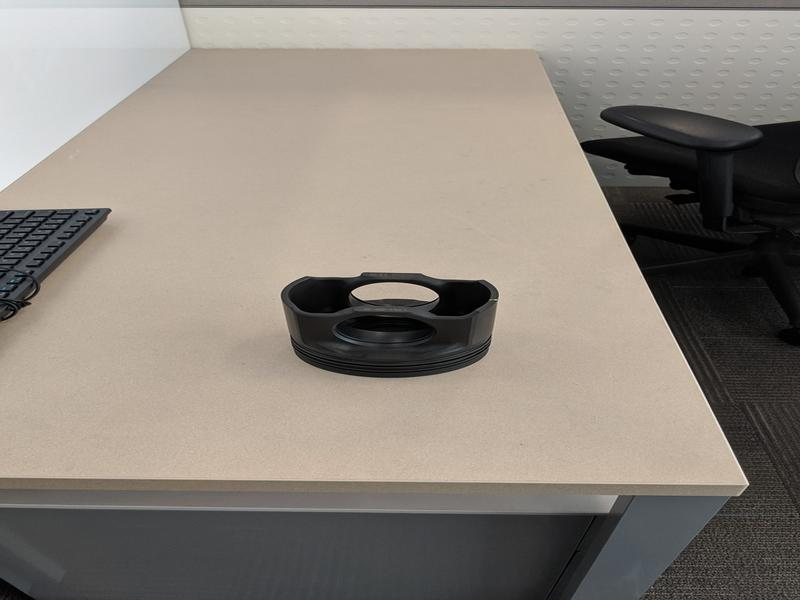piston: (278, 267, 505, 382)
